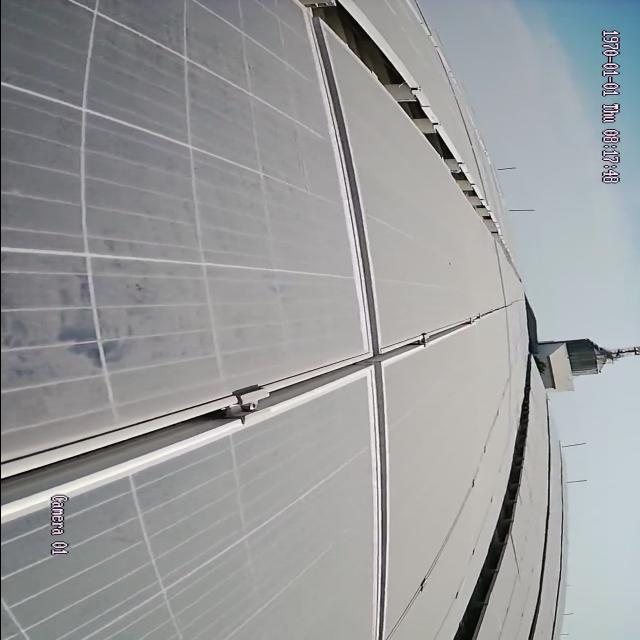interior panel: (1, 347, 369, 522), (312, 43, 386, 345), (363, 384, 389, 637), (385, 307, 496, 364)
outher panel: (289, 3, 500, 233), (452, 406, 526, 640)
